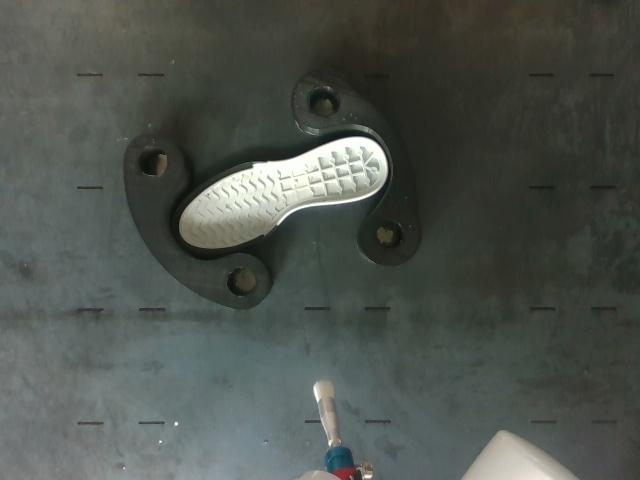shoes: (173, 137, 387, 254)
